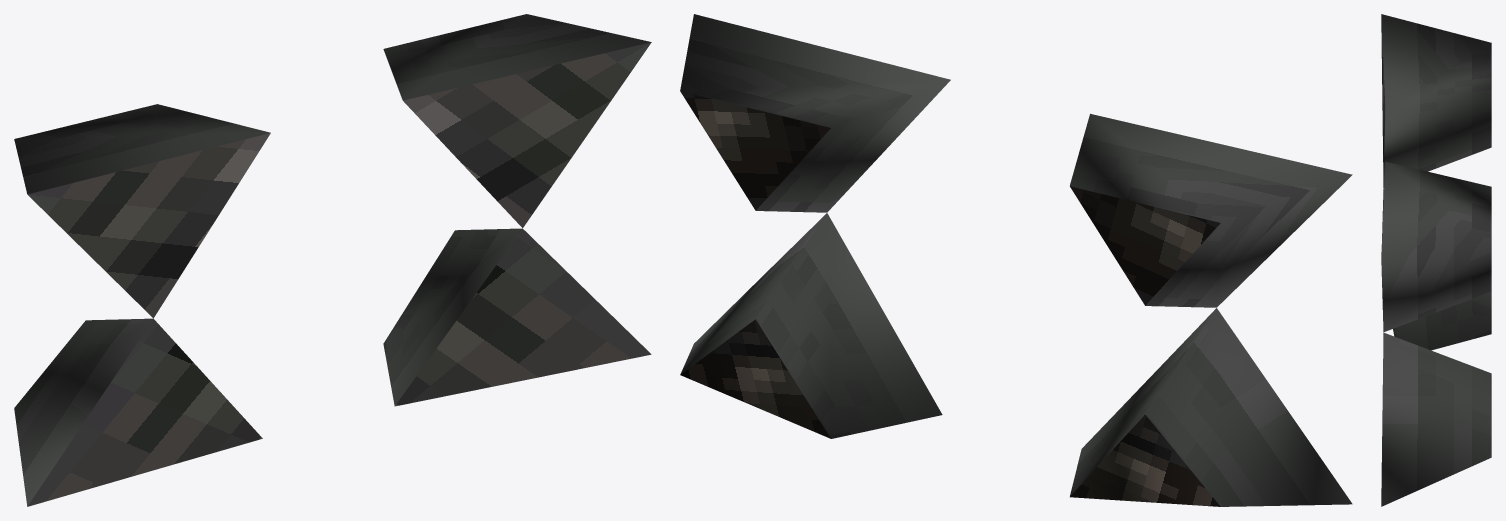
File: bwing_engine_s01_l3.fbx
3 renders of one model, left to right at view 1: azimuth 30°, elevation 25°; view 2: azimuth 150°, elevation 25°; view 3: azimuth 270°, elevation 25°, orthographic. The views are drawn at different scales.
Visible parts, largest first — view 1: mesh_node; view 2: mesh_node; view 3: mesh_node.
Part boxes in pixels (x1,y1,x2,y2): mesh_node: [14, 14, 651, 506]; mesh_node: [680, 14, 1352, 506]; mesh_node: [1381, 14, 1491, 506].
Size of the model in its own units: 1.75 by 0.8364 by 0.3356.
Materials: 1 (1 with a texture image).
